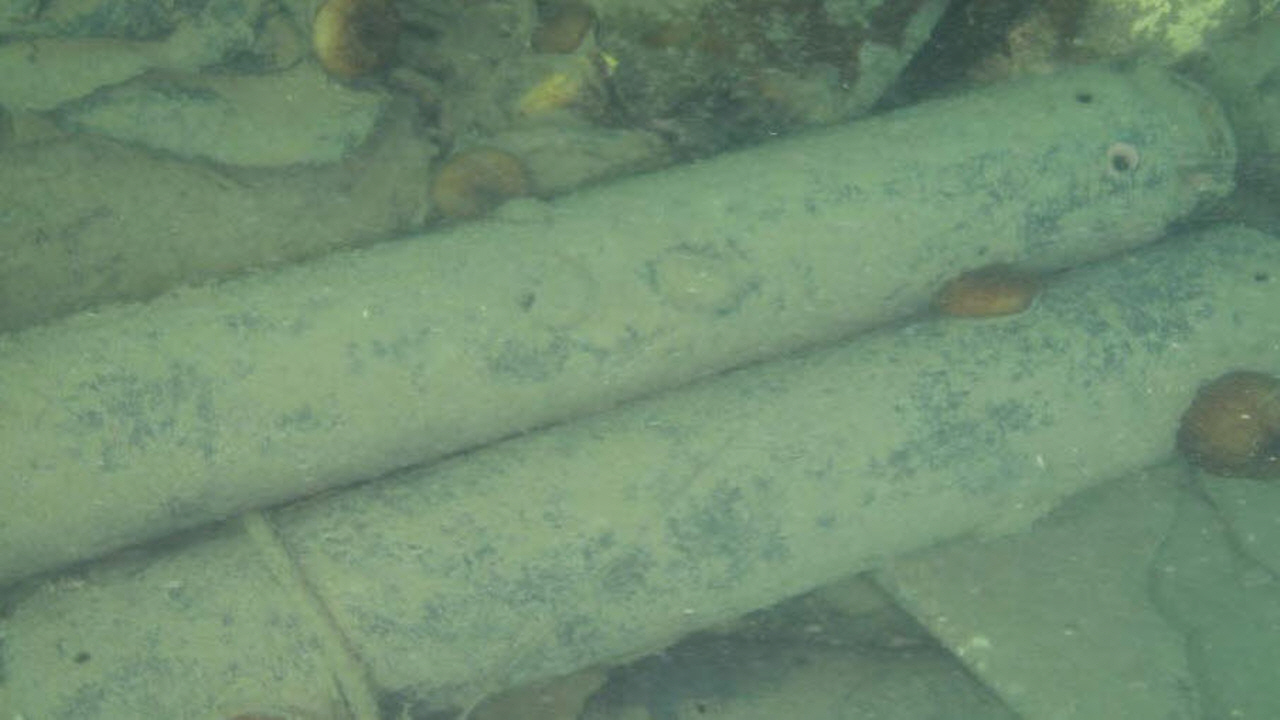eel fish trap: (0, 67, 1238, 587), (0, 222, 1280, 720)
rope: (234, 509, 386, 720)
